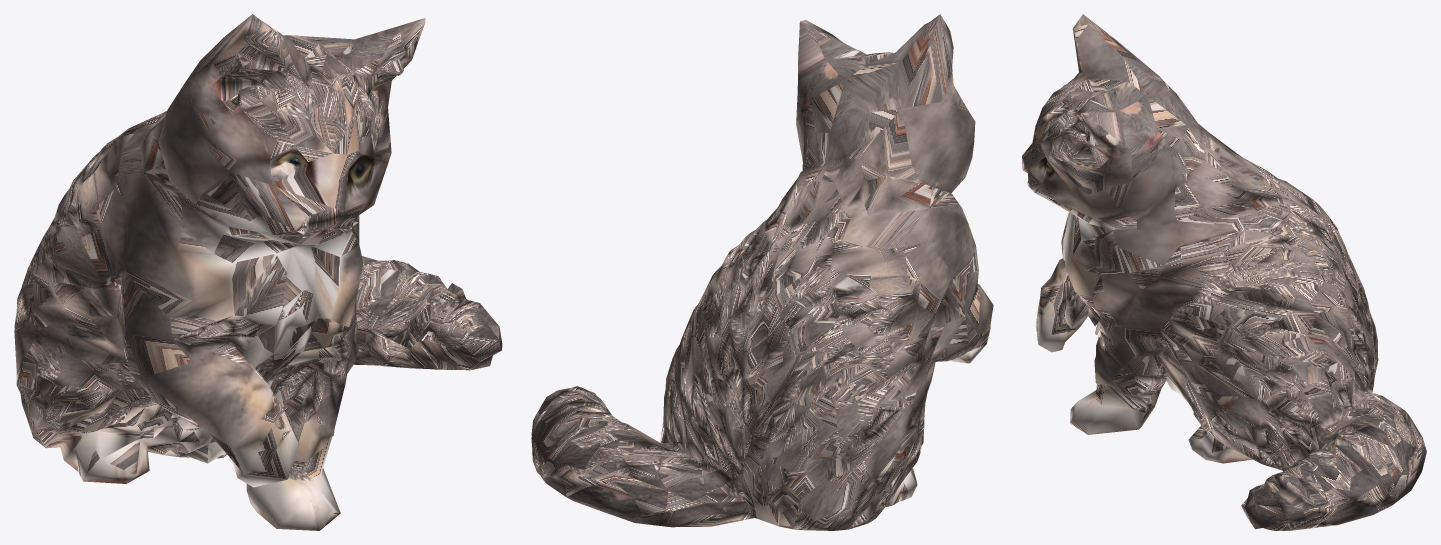
Rendered from kitten.glb.
The picture shows the model from 3 angles, left to right: view 1: azimuth 30°, elevation 25°; view 2: azimuth 150°, elevation 25°; view 3: azimuth 270°, elevation 25°; orthographic projection. The views are drawn at different scales.
Visible parts, largest first — view 1: kitten; view 2: kitten; view 3: kitten.
Boxes of the visible parts, x1,y1,x2,y2 form: kitten: [14, 14, 502, 530]; kitten: [531, 14, 993, 530]; kitten: [1022, 14, 1426, 530].
Bounding box in the file's own units: 0.2303 × 0.2492 × 0.2346.
Materials: 1 (1 with a texture image).
